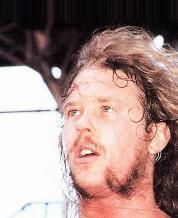face: (64, 98, 118, 167)
